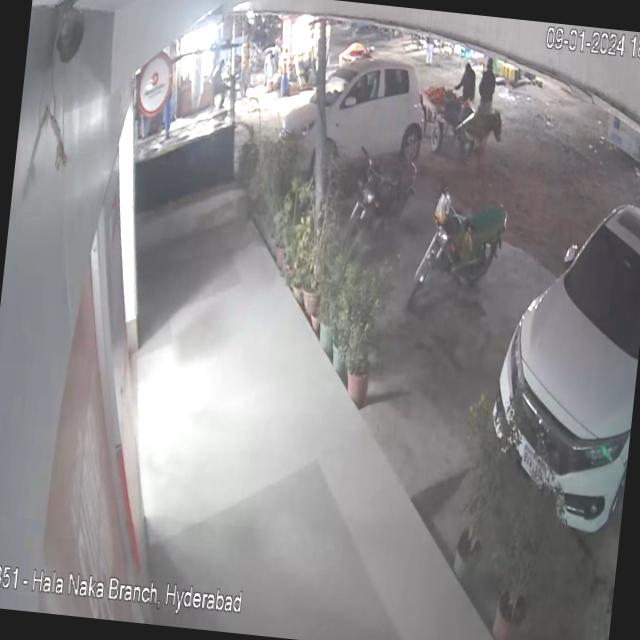Car: (477, 146, 640, 548), (256, 32, 436, 172)
Motorcycle: (399, 182, 525, 310), (344, 134, 422, 252)
